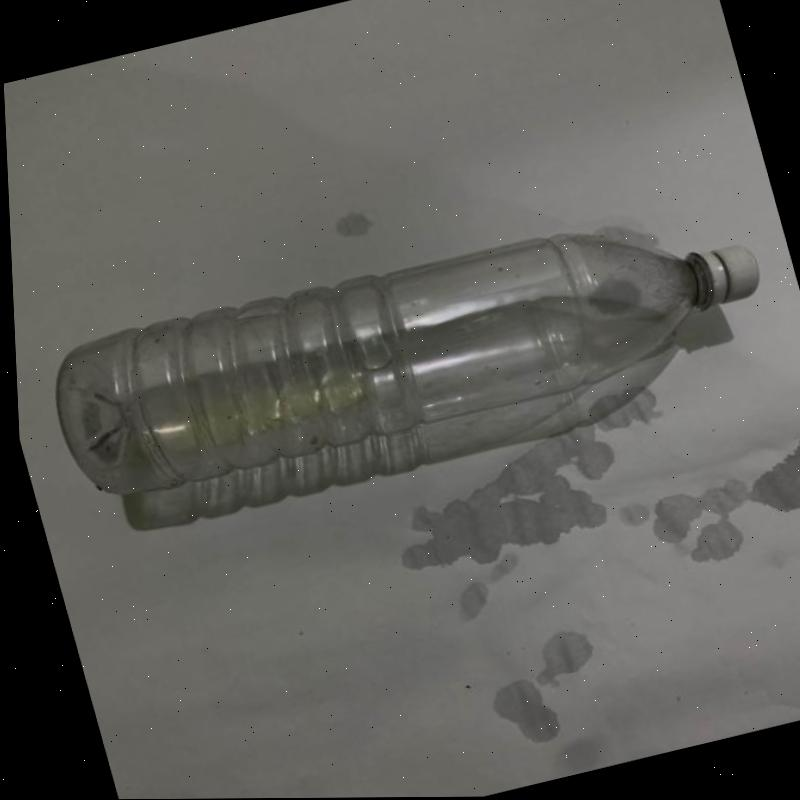botella: (38, 185, 778, 509)
